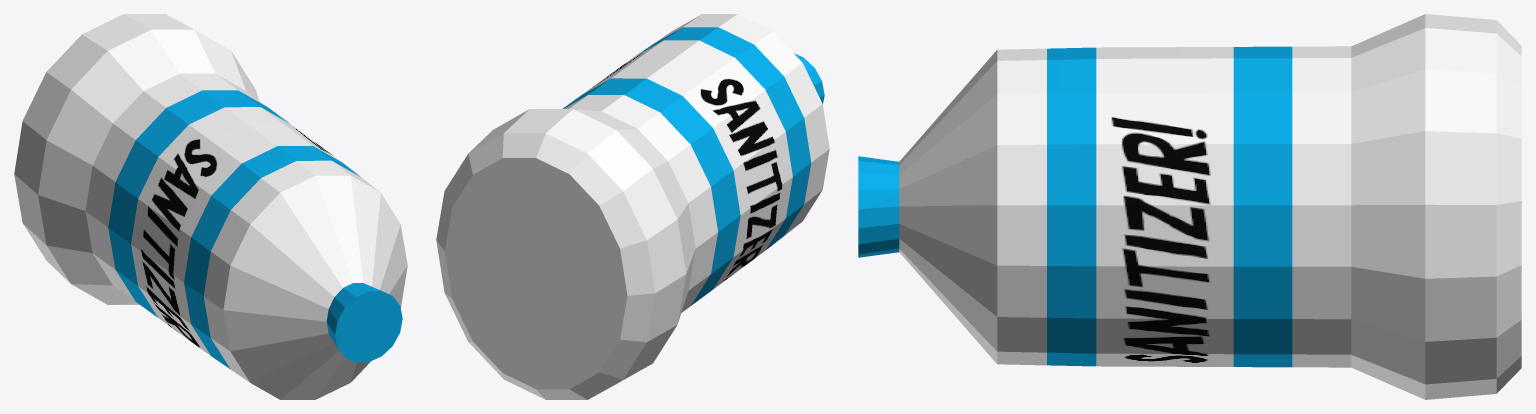
File: Sanitizer.003.obj
3 renders of one model, left to right at view 1: azimuth 30°, elevation 25°; view 2: azimuth 150°, elevation 25°; view 3: azimuth 270°, elevation 25°, orthographic. The views are drawn at different scales.
Visible parts, largest first — view 1: Sanitizer.003; view 2: Sanitizer.003; view 3: Sanitizer.003.
Boxes of the visible parts, bbox=[...] form: Sanitizer.003: bbox=[14, 14, 407, 399]; Sanitizer.003: bbox=[436, 14, 829, 399]; Sanitizer.003: bbox=[858, 14, 1521, 399].
Bounding box in the file's own units: 0.244 × 0.2837 × 0.476.
Materials: 1 (1 with a texture image).
